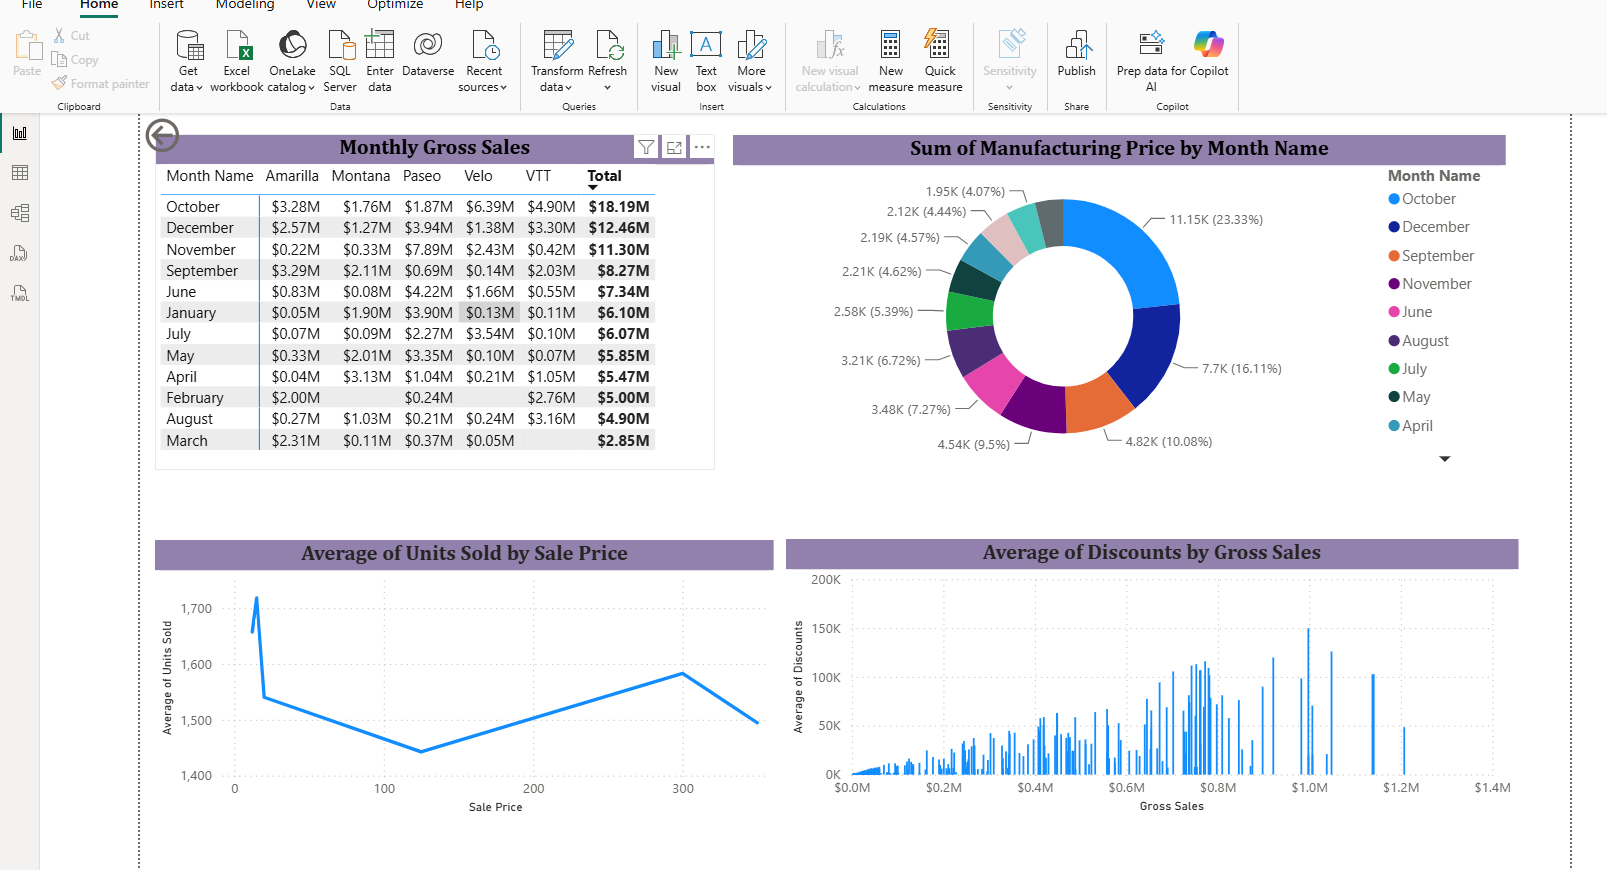

Layout of this report page (visuals, bound fields, positions):
{"tool":"powerbi","page":{"name":"Customer Behavior","canvas":[1280,720],"ordinal":2},"visuals":[{"type":"pivotTable","title":"Monthly Gross Sales","fields":{"Columns":["financials.Product"],"Values":["Sum(financials.Gross Sales)"],"Rows":["financials.Month Name"]},"box":[13.6,18.5,500.9,301.5],"z":0},{"type":"donutChart","fields":{"Category":["financials.Month Name"],"Y":["Sum(financials.Manufacturing Price)"]},"box":[531,19.7,692.2,302.7],"z":1000},{"type":"lineChart","fields":{"Category":["financials.Sale Price"],"Y":["Avg(financials.Units Sold)"]},"box":[13.6,382.2,554.4,250],"z":2000},{"type":"columnChart","fields":{"Category":["financials.Gross Sales"],"Y":["Avg(financials.Discounts)"]},"box":[578.5,381.5,655.5,249.9],"z":3000},{"type":"actionButton","box":[0,0,100,40],"z":4000}]}

Visuals, with their boxes on the page's 1280x720 design canvas (x1, y1, x2, y2). These are canvas units, not pixel positions in the 1607x870 screenshot, which may show the page scaled, cropped or inside an application window:
"Monthly Gross Sales" pivotTable: (14, 18, 514, 320)
donutChart - financials.Month Name x Sum(financials.Manufacturing Price): (531, 20, 1223, 322)
lineChart - financials.Sale Price x Avg(financials.Units Sold): (14, 382, 568, 632)
columnChart - financials.Gross Sales x Avg(financials.Discounts): (578, 382, 1234, 631)
actionButton: (0, 0, 100, 40)
